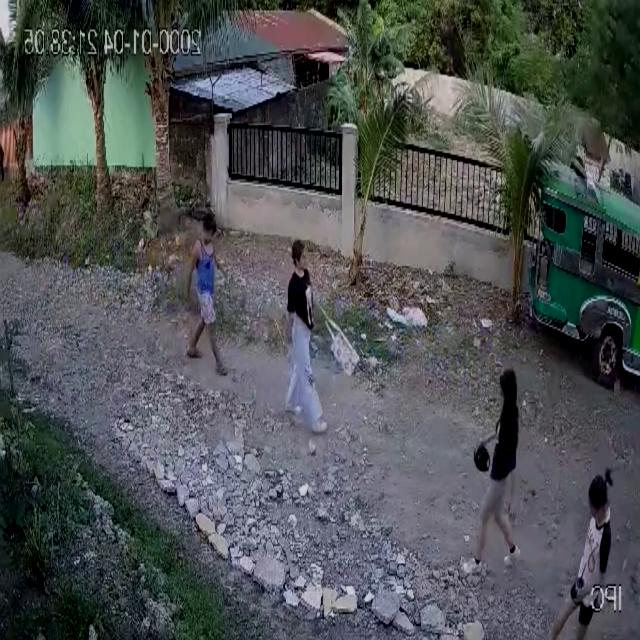walking: (276, 229, 358, 436), (454, 362, 528, 578), (546, 459, 620, 640), (177, 208, 232, 382)
